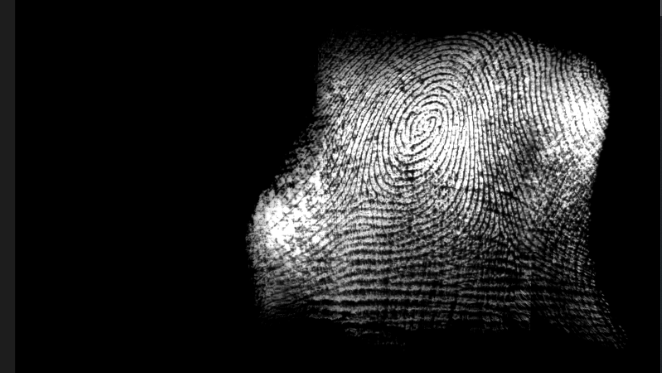deltas: (474, 211, 524, 255), (340, 167, 384, 212)
nucleo: (395, 102, 446, 143)
